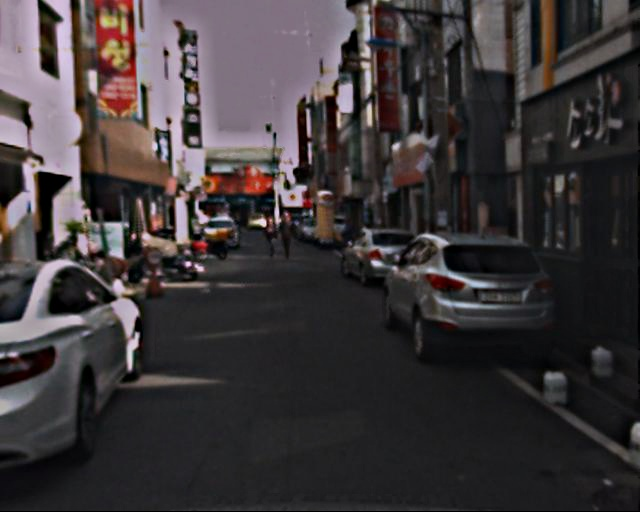person: (338, 216, 359, 273), (279, 213, 300, 267), (262, 216, 282, 264)
